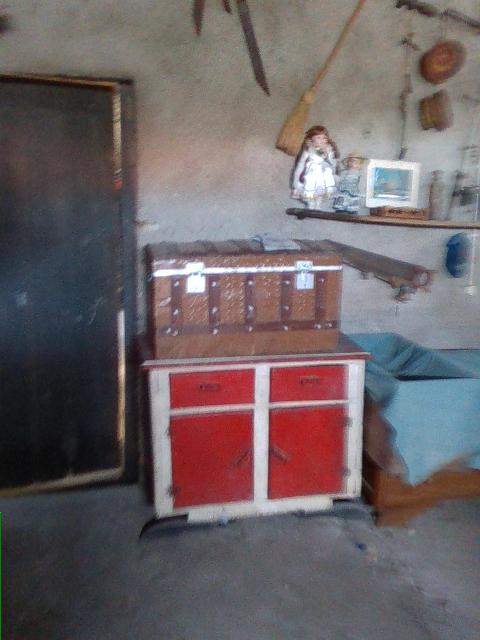door: (0, 73, 138, 495)
